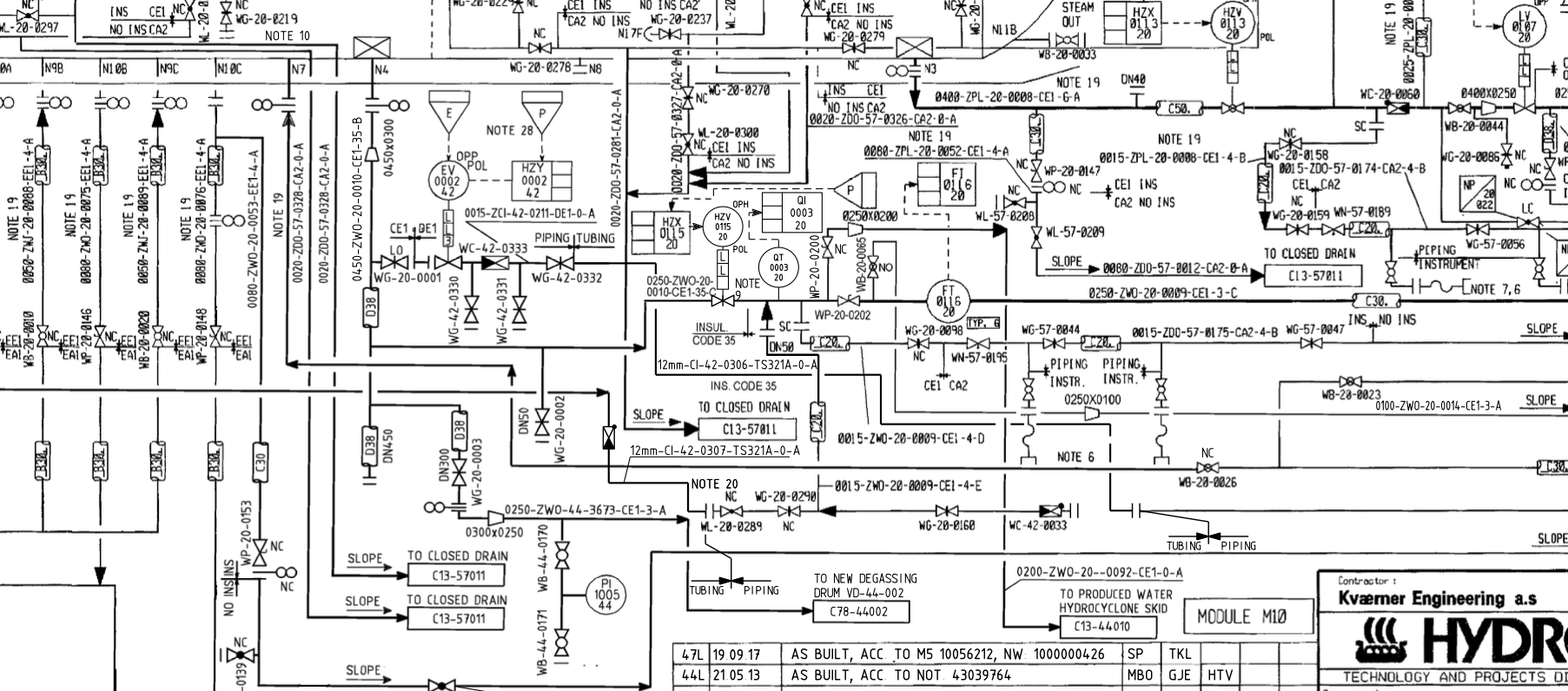Instrument: (922, 273, 975, 326), (580, 566, 631, 619), (1203, 1, 1257, 48), (1500, 2, 1552, 50), (424, 152, 472, 204), (698, 201, 745, 248), (755, 244, 803, 290)
Instrument-square: (505, 155, 557, 203), (934, 160, 982, 211)
